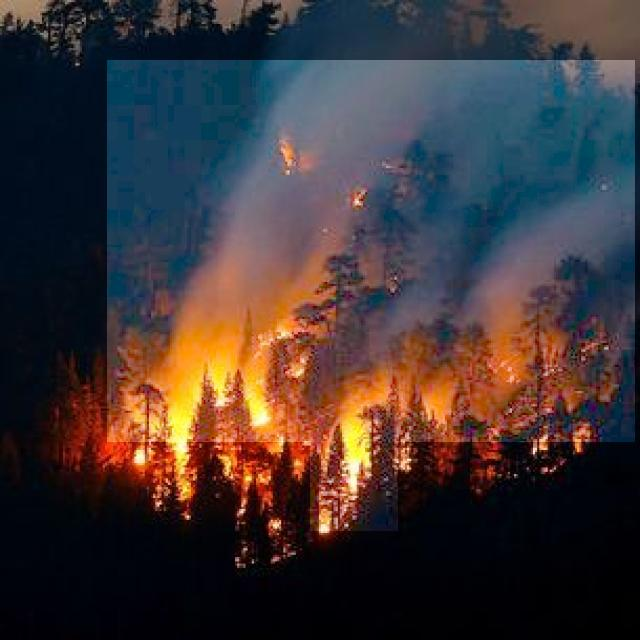Fire: (132, 361, 270, 477), (310, 421, 398, 531)
Smoke: (107, 60, 635, 442)
